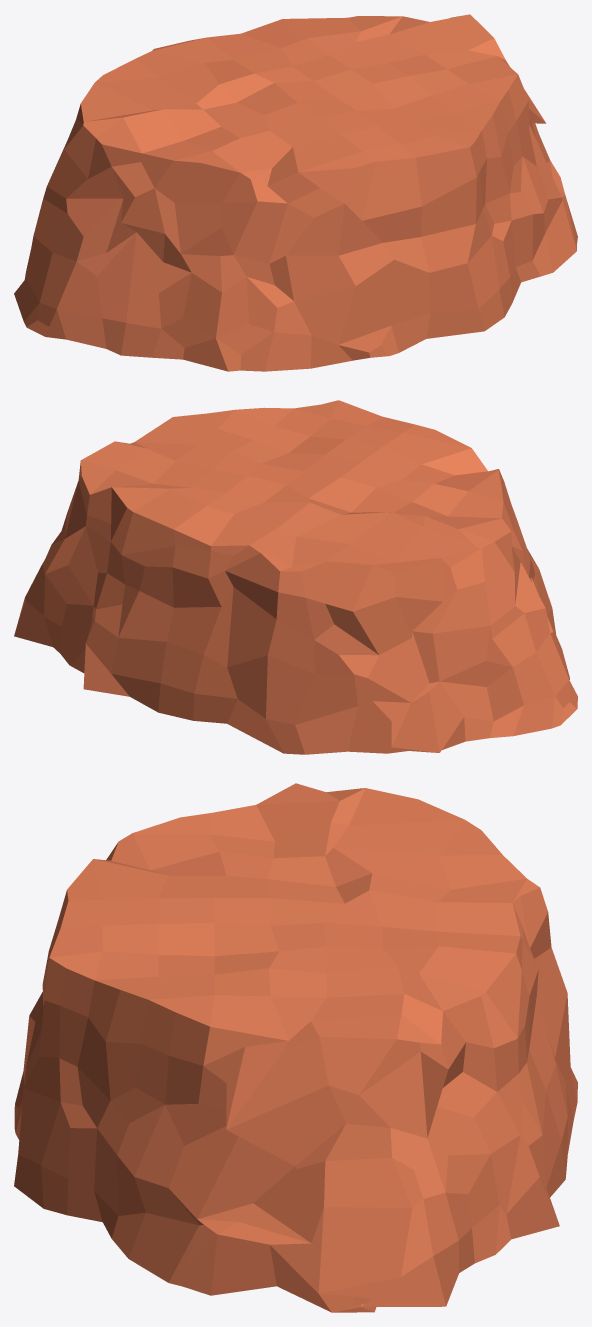
The model's file is Rock_V07.fbx.
The picture shows the model from 3 angles, top to bottom: view 1: azimuth 30°, elevation 25°; view 2: azimuth 150°, elevation 25°; view 3: azimuth 270°, elevation 25°; orthographic projection. The views are drawn at different scales.
Visible parts, largest first — view 1: Rock_V07; view 2: Rock_V07; view 3: Rock_V07.
Part boxes in pixels (x1,y1,x2,y2): Rock_V07: [14, 14, 577, 371]; Rock_V07: [14, 400, 577, 754]; Rock_V07: [14, 783, 577, 1312].
Bounding box in the file's own units: 3023 × 1016 × 2105.
